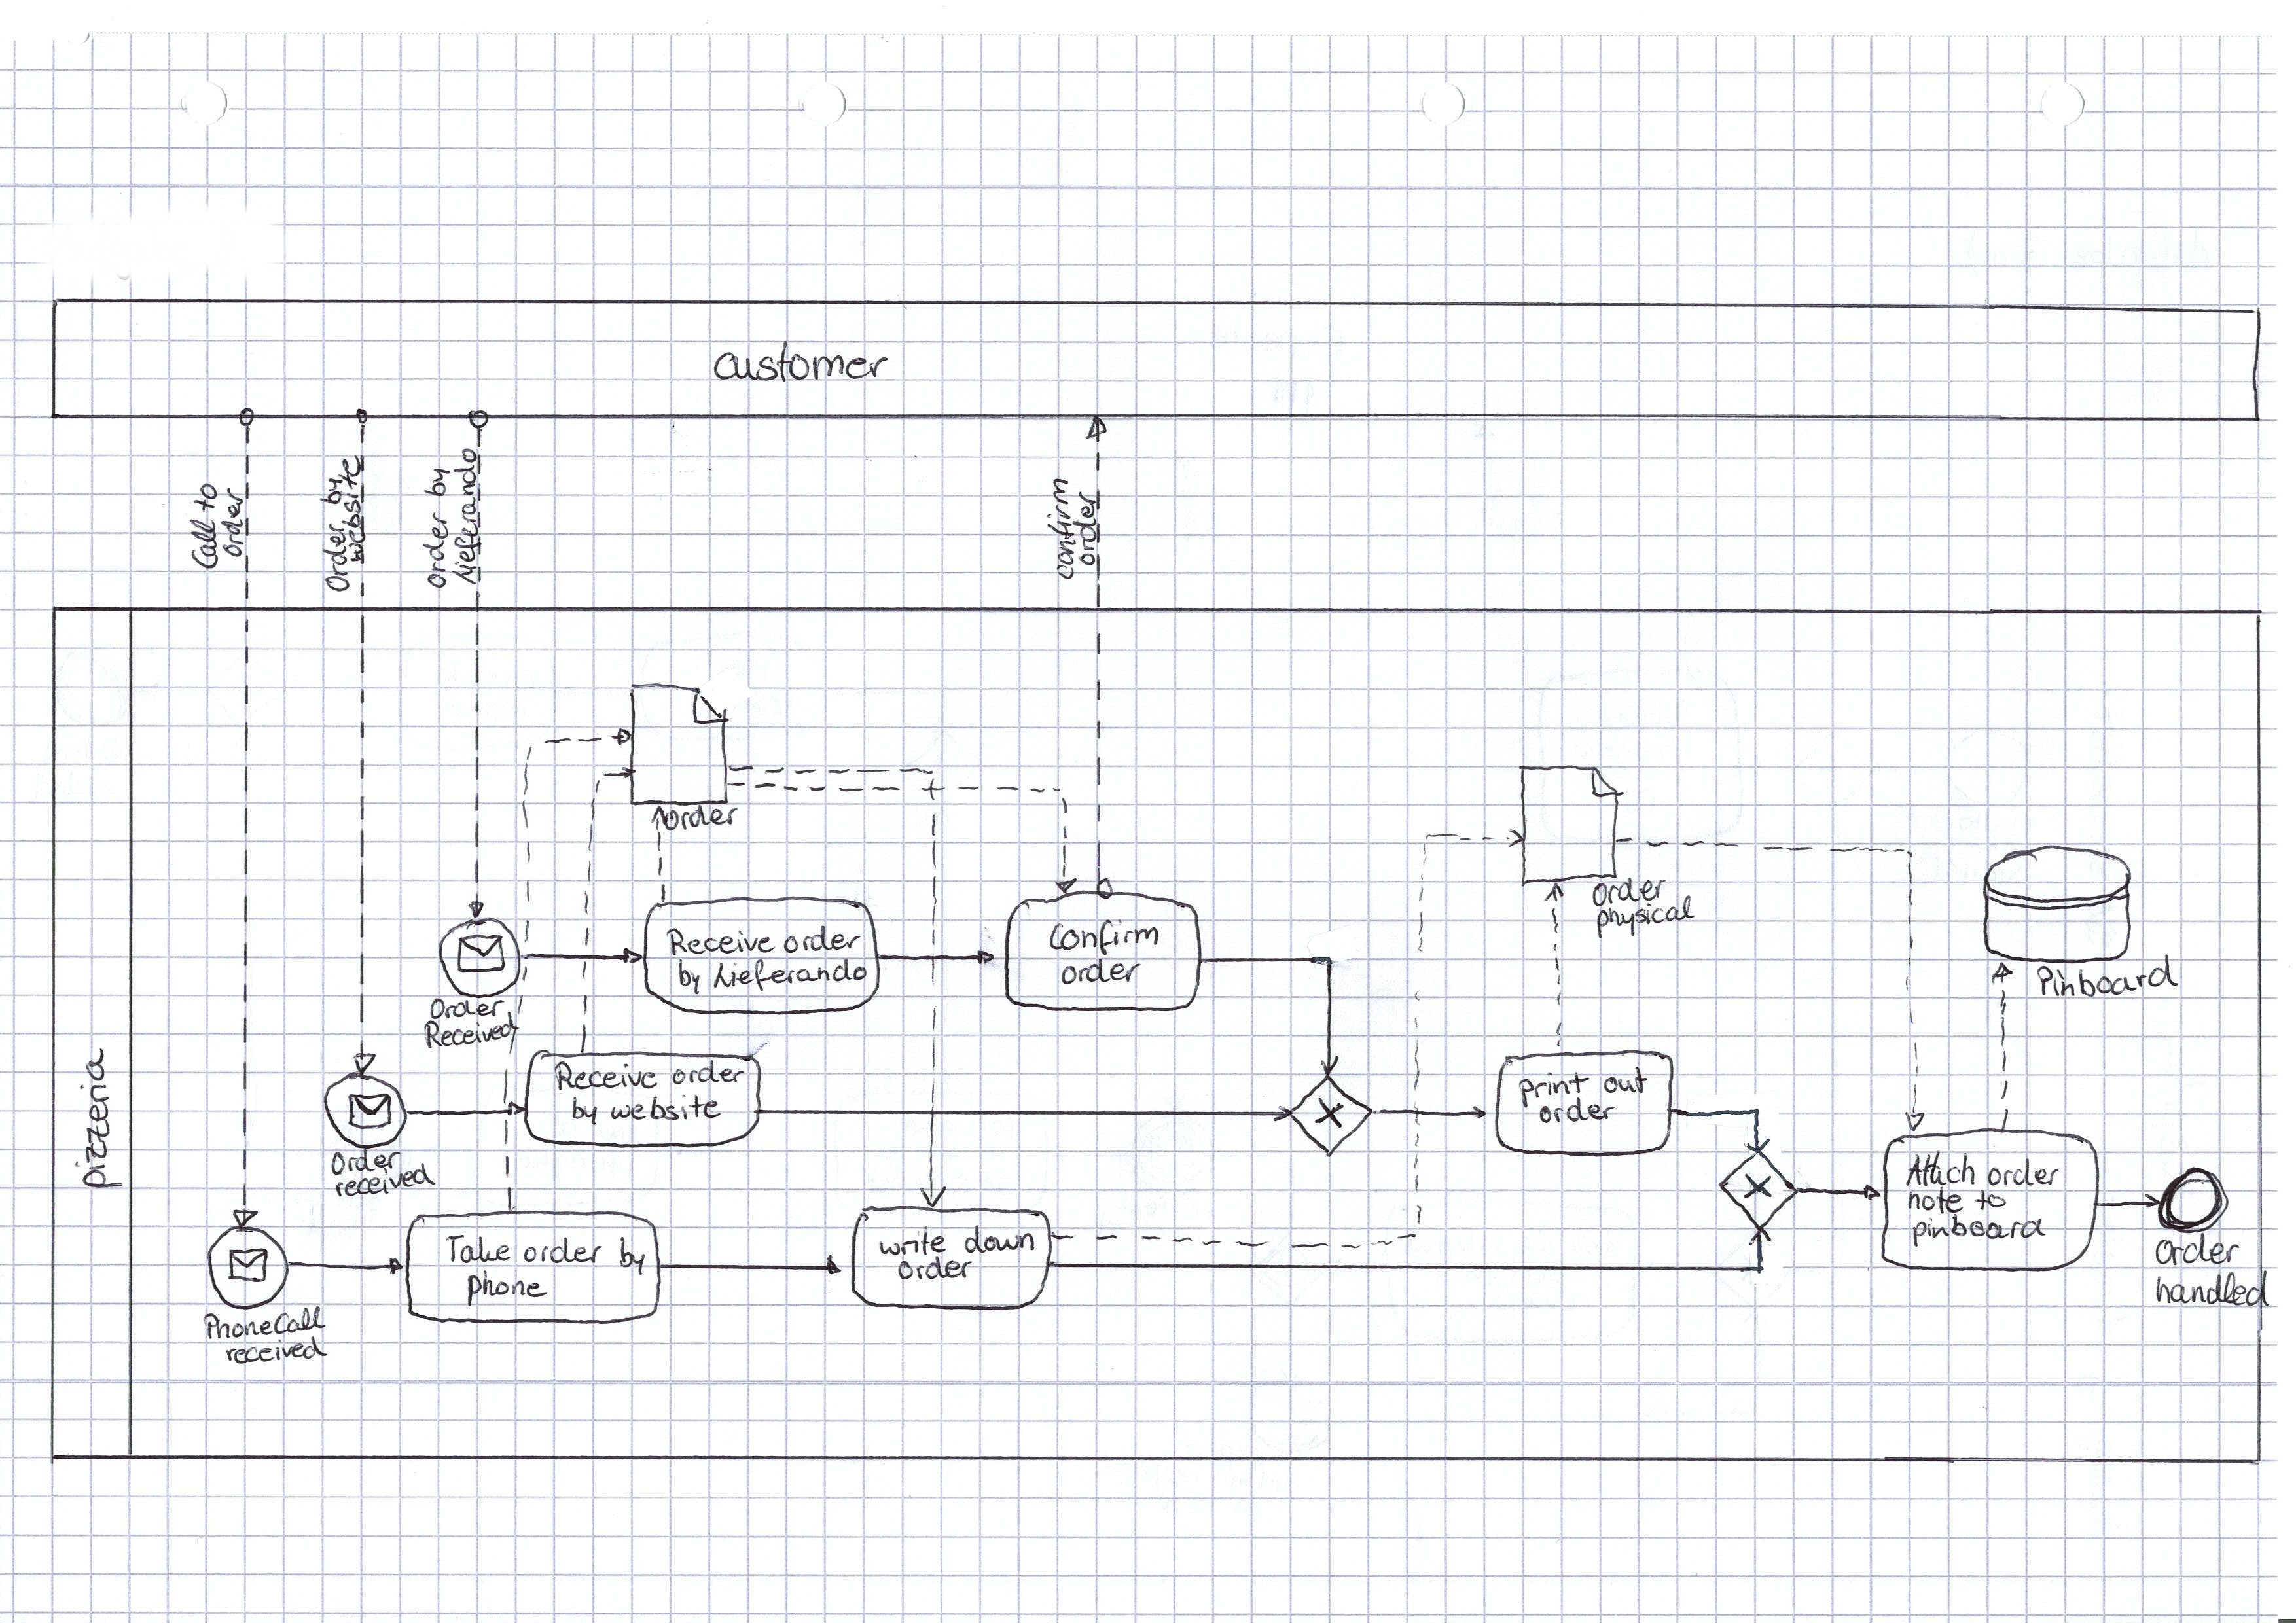Attach: (1903, 1152, 1978, 1191)
Lieferando: (713, 956, 871, 994), (451, 437, 480, 587)
Order: (320, 522, 350, 595), (329, 1147, 401, 1173), (430, 996, 504, 1021)
PhoneCall: (199, 1312, 325, 1344)
Pinboard: (2029, 964, 2184, 1008)
Receive: (552, 1061, 668, 1093), (666, 927, 775, 959)
Received: (422, 1022, 516, 1056)
Take: (444, 1233, 513, 1272)
by: (613, 1235, 650, 1277), (564, 1096, 608, 1129), (673, 957, 708, 996), (423, 464, 457, 497), (316, 474, 343, 509)
call: (186, 518, 221, 569)
confirm: (1047, 919, 1165, 957), (1045, 478, 1073, 580)
customer: (713, 339, 894, 386)
down: (963, 1224, 1036, 1256)
handled: (2154, 1268, 2273, 1312)
note: (1904, 1189, 1966, 1217)
order: (420, 502, 455, 588), (2152, 1235, 2240, 1268), (1061, 956, 1140, 991), (1983, 1156, 2064, 1189), (1537, 1094, 1620, 1126), (783, 926, 863, 957), (896, 1254, 973, 1286), (522, 1238, 603, 1268), (1590, 878, 1671, 906), (673, 1061, 748, 1091), (662, 804, 740, 833), (220, 485, 246, 559), (1077, 488, 1100, 567)
out: (1602, 1066, 1650, 1101)
phone: (464, 1268, 548, 1305)
physical: (1590, 910, 1697, 943)
pinboard: (1910, 1214, 2048, 1245)
pizzeria: (70, 1045, 126, 1189)
print: (1513, 1075, 1590, 1110)
received: (223, 1335, 330, 1368), (329, 1179, 432, 1208)
to: (190, 478, 223, 513), (1973, 1186, 2008, 1214)
website: (606, 1093, 722, 1128), (343, 458, 365, 566)
write: (877, 1226, 950, 1256)
